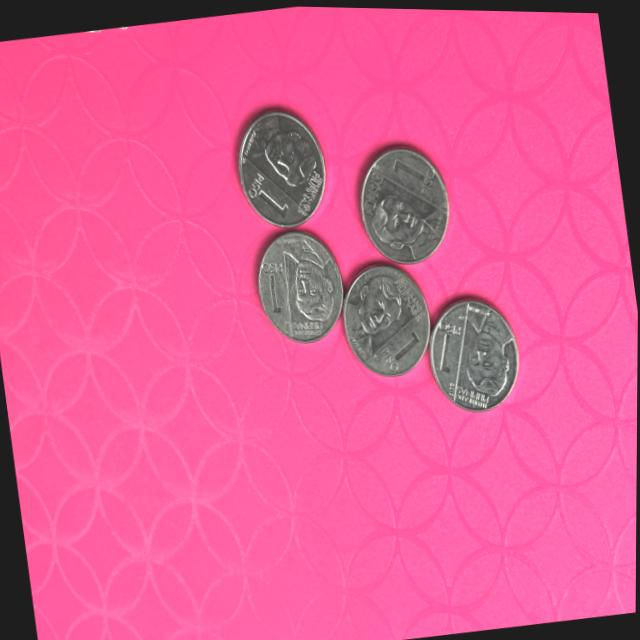1_New_Front: (375, 149, 443, 202), (378, 320, 433, 373), (429, 319, 470, 385), (242, 171, 291, 223), (259, 257, 296, 325)
